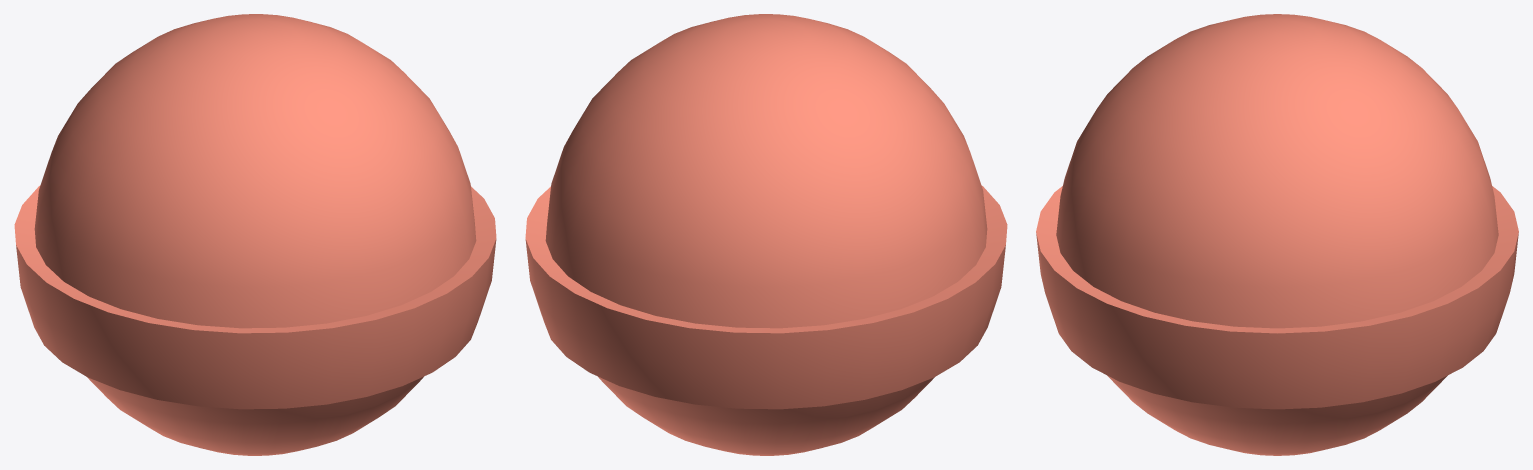
Rendered from Candy.gltf.
3 renders of one model, left to right at view 1: azimuth 30°, elevation 25°; view 2: azimuth 150°, elevation 25°; view 3: azimuth 270°, elevation 25°, orthographic.
Visible parts, largest first — view 1: 球; view 2: 球; view 3: 球.
Part boxes in pixels (left/top/right/bottom): 球: left=14, top=14, right=496, bottom=455; 球: left=525, top=14, right=1007, bottom=455; 球: left=1036, top=14, right=1518, bottom=455.
Size of the model in its own units: 2.18 by 2 by 2.18.
Materials: 1 (1 with a texture image).
